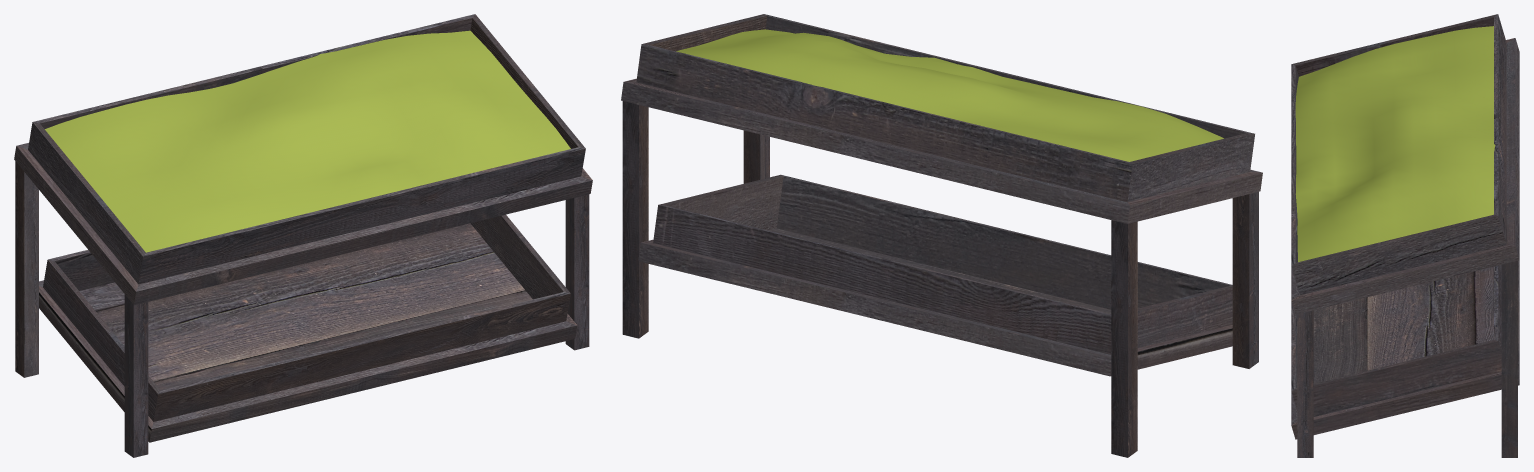
File: Graintable.fbx
3 renders of one model, left to right at view 1: azimuth 30°, elevation 25°; view 2: azimuth 150°, elevation 25°; view 3: azimuth 270°, elevation 25°, orthographic. The views are drawn at different scales.
Visible parts, largest first — view 1: polySurface4, polySurface2, polySurface1, pCube7, pCube3, pCube2; view 2: polySurface4, polySurface1, polySurface2, pCube7, pCube6, pCube3, pCube2; view 3: polySurface2, polySurface4, polySurface1, pCube6, pCube2.
Boxes of the visible parts, x1,y1,x2,y2 form: polySurface4: (39, 214, 577, 442); polySurface2: (45, 30, 570, 252); polySurface1: (14, 14, 592, 305); pCube7: (15, 161, 38, 377); pCube3: (124, 294, 148, 457); pCube2: (565, 194, 589, 350); polySurface4: (638, 174, 1232, 376); polySurface1: (621, 14, 1262, 223); polySurface2: (676, 29, 1223, 161); pCube7: (1111, 220, 1137, 457); pCube6: (622, 101, 648, 338); pCube3: (1232, 191, 1258, 368); pCube2: (743, 130, 769, 183); polySurface2: (1295, 26, 1495, 262); polySurface4: (1291, 260, 1519, 439); polySurface1: (1291, 14, 1519, 314); pCube6: (1501, 261, 1517, 457); pCube2: (1297, 310, 1313, 457).
Size of the model in its own units: 0.03 by 0.0161 by 0.0139.
